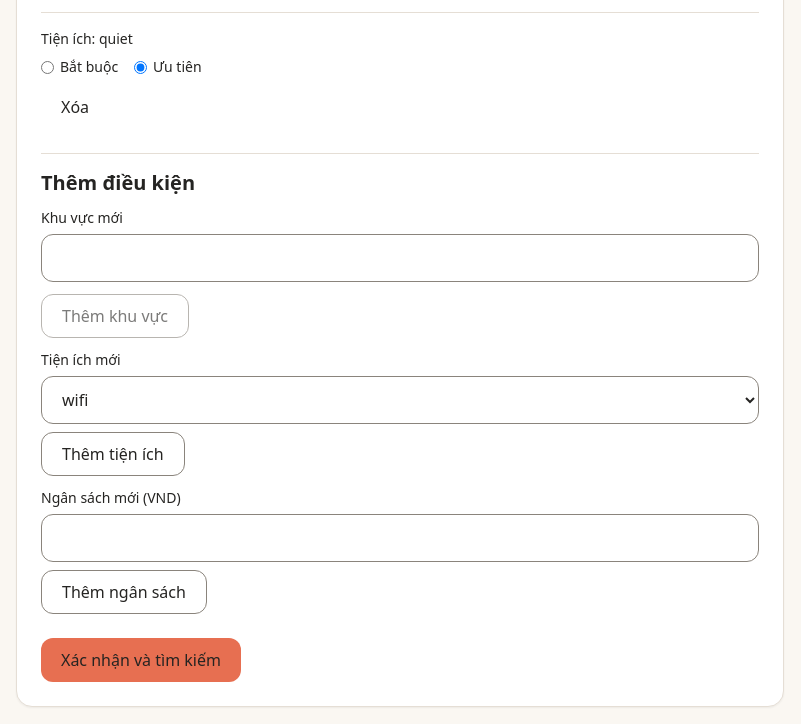
Test: SearchPage 4c-2 › warnings có LOCATION_NOT_SUPPORTED thì hiển thị cảnh báo tiếng Việt
(page scrolled)
Click the button "Xác nhận và tìm kiếm": (141,660) top-left (41, 638), bottom-right (241, 682)
(page scrolled)
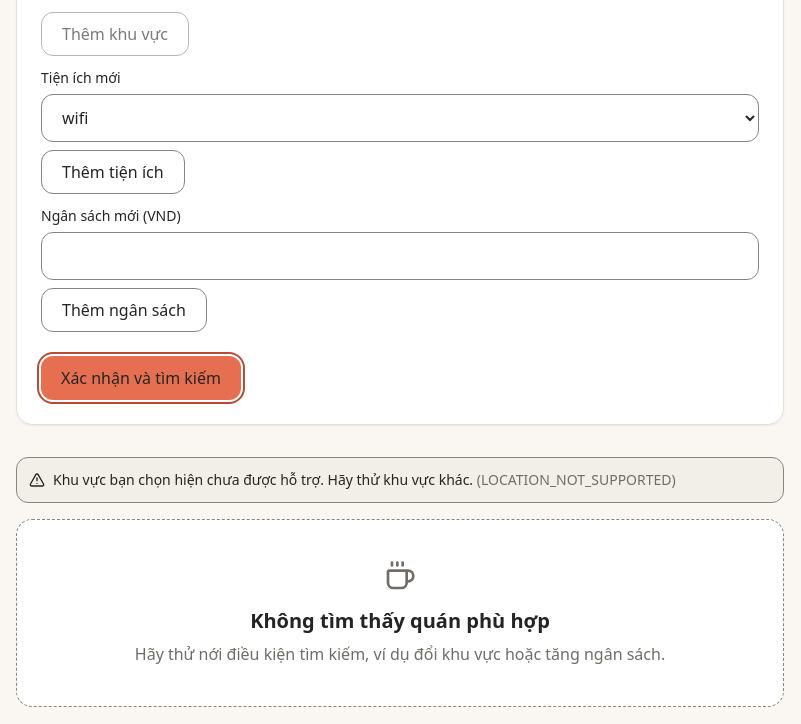
Expected: the text "chưa được hỗ trợ" is shown, top-left (53, 470), bottom-right (473, 489)
